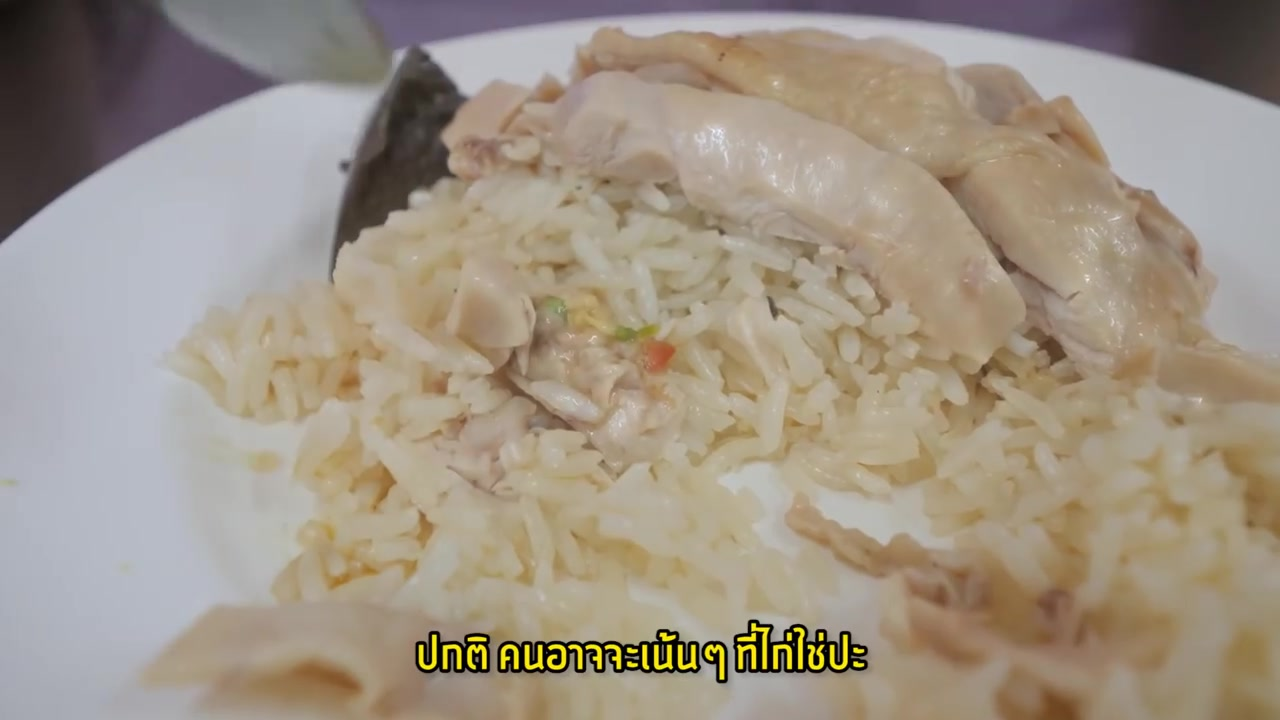text-label: (411, 619, 871, 686)
